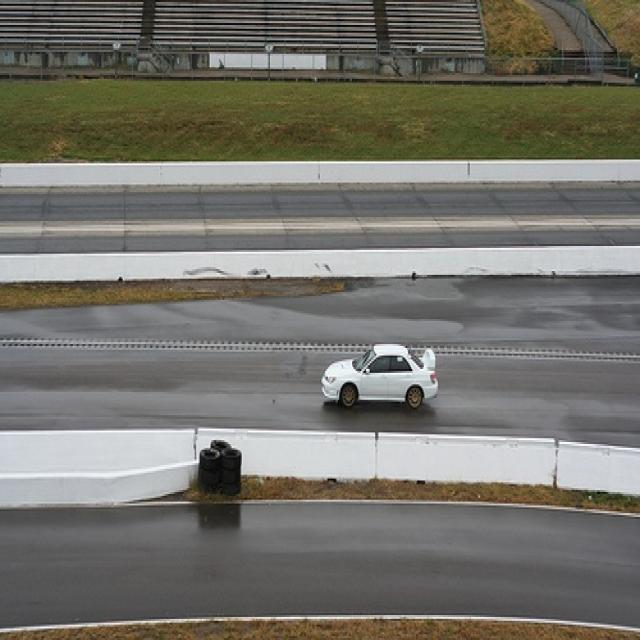car: (318, 340, 438, 411)
